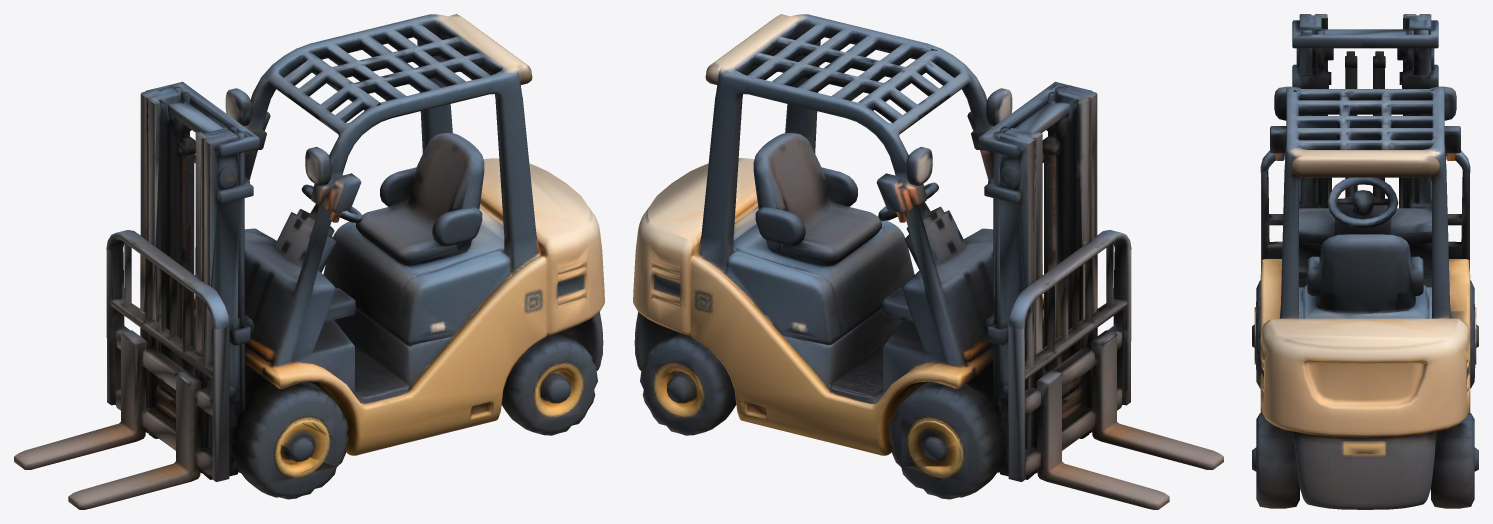
Rendered from Vehicles__forklift_d3af6060_v3.cluster.glb.
The picture shows the model from 3 angles, left to right: view 1: azimuth 30°, elevation 25°; view 2: azimuth 150°, elevation 25°; view 3: azimuth 270°, elevation 25°; orthographic projection. The views are drawn at different scales.
Parts seen in each view (by area): view 1: mesh_input; view 2: mesh_input; view 3: mesh_input.
Part boxes in pixels (x1,y1,x2,y2): mesh_input: [14, 14, 604, 509]; mesh_input: [633, 14, 1223, 509]; mesh_input: [1252, 14, 1478, 509].
Bounding box in the file's own units: 1.9 × 1.22 × 0.7383.
Materials: 1 (1 with a texture image).
